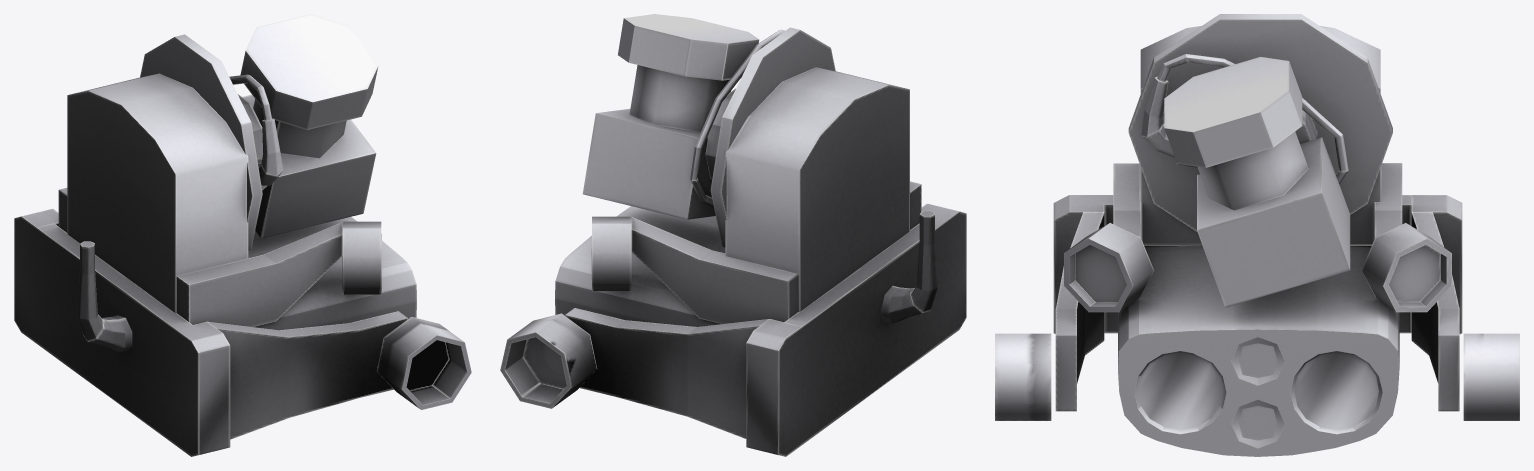
The model's file is head.dae.
The picture shows the model from 3 angles, left to right: view 1: azimuth 30°, elevation 25°; view 2: azimuth 150°, elevation 25°; view 3: azimuth 270°, elevation 25°; orthographic projection. The views are drawn at different scales.
Visible parts, largest first — view 1: head; view 2: head; view 3: head.
Boxes of the visible parts, x1,y1,x2,y2 form: head: (14, 14, 471, 456); head: (500, 14, 966, 456); head: (995, 14, 1519, 456).
Size of the model in its own units: 0.1698 by 0.2377 by 0.1785.
